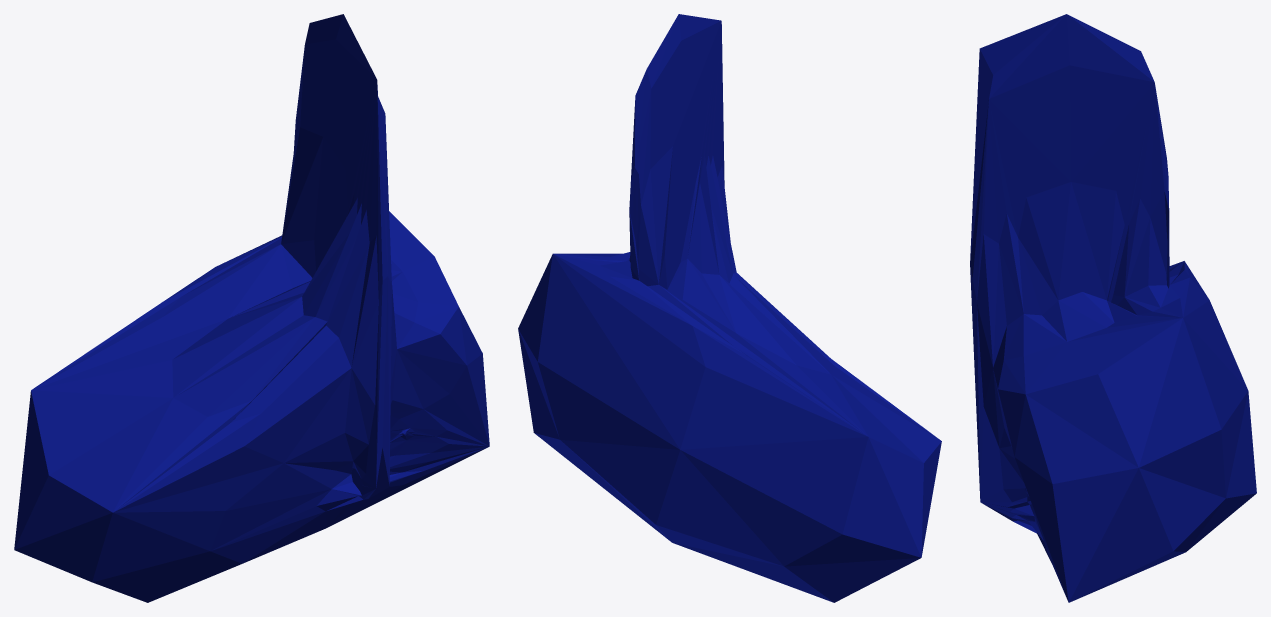
3 renders of one model, left to right at view 1: azimuth 30°, elevation 25°; view 2: azimuth 150°, elevation 25°; view 3: azimuth 270°, elevation 25°, orthographic. The views are drawn at different scales.
Parts seen in each view (by area): view 1: 839_Cube.3386; view 2: 839_Cube.3386; view 3: 839_Cube.3386.
Boxes of the visible parts, <box> form: 839_Cube.3386: <box>14,14,489,602</box>; 839_Cube.3386: <box>518,14,941,602</box>; 839_Cube.3386: <box>970,14,1256,602</box>.
Size of the model in its own units: 11.87 by 14.15 by 6.12.
